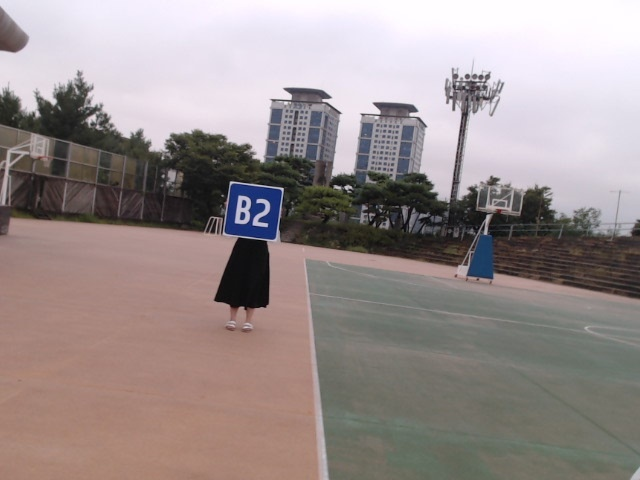delivery_b2: (223, 182, 284, 240)
